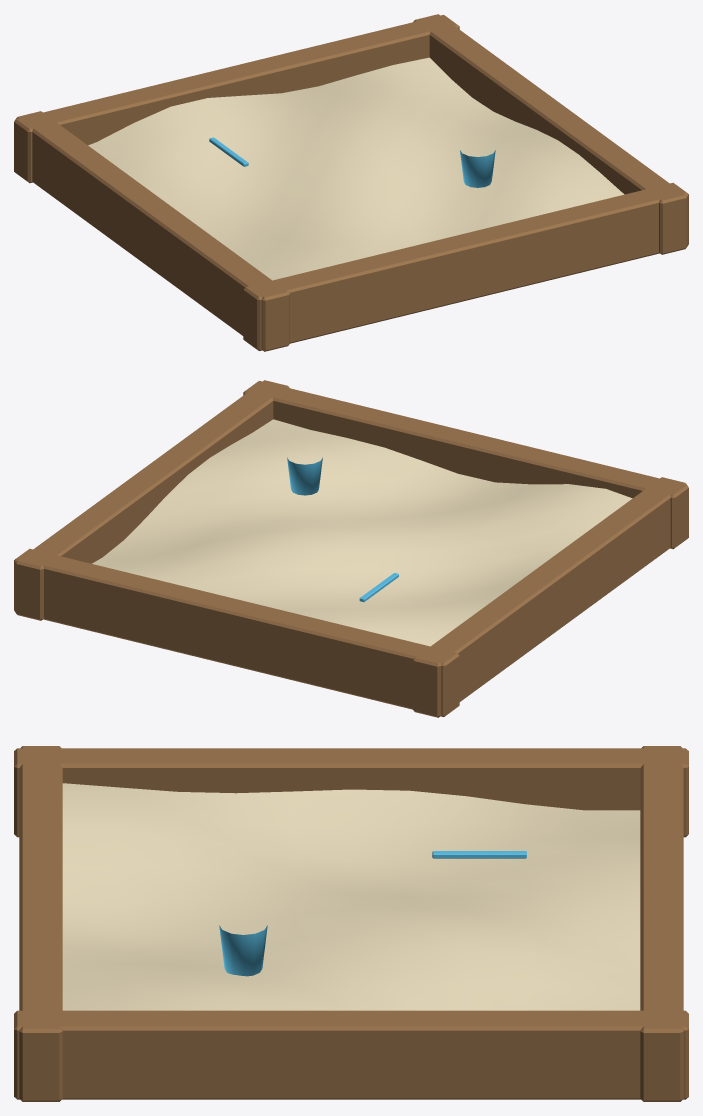
File: sandbox.glb
3 views of the same model, one above another, from view 1: azimuth 30°, elevation 25°; view 2: azimuth 150°, elevation 25°; view 3: azimuth 270°, elevation 25° (orthographic). The views are drawn at different scales.
Parts seen in each view (by area): view 1: sandbox; view 2: sandbox; view 3: sandbox.
Boxes of the visible parts, box(x1,y1,x2,y2) form: sandbox: box(14, 14, 688, 351); sandbox: box(14, 380, 688, 717); sandbox: box(14, 746, 688, 1101).
Size of the model in its own units: 2.5 by 0.38 by 2.5.
